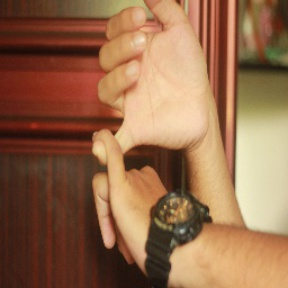S: (79, 1, 216, 278)
